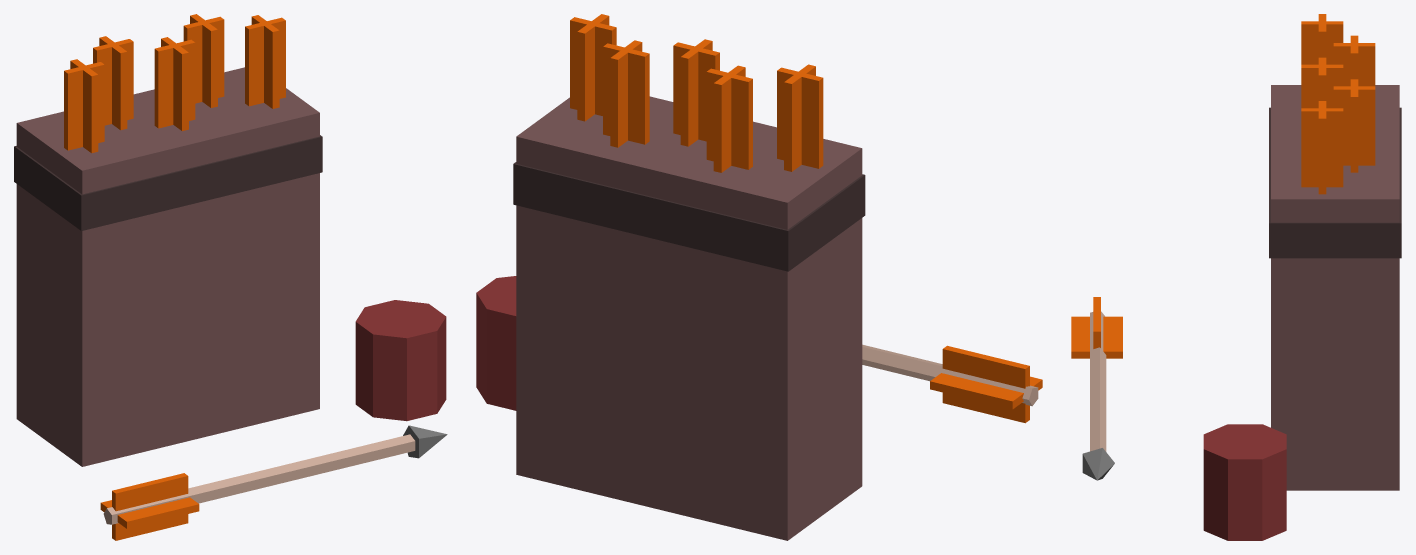
Rendered from ce_ammo2_boltjar_flame_c.obj.
The picture shows the model from 3 angles, left to right: view 1: azimuth 30°, elevation 25°; view 2: azimuth 150°, elevation 25°; view 3: azimuth 270°, elevation 25°; orthographic projection. The views are drawn at different scales.
Parts seen in each view (by area): view 1: ce_ammo2_boltjar_flame_c_0, ce_ammo2_boltjar_flame_c_1, ce_ammo2_boltjar_flame_c_12, ce_ammo2_boltjar_flame_c_13, ce_ammo2_boltjar_flame_c_16, ce_ammo2_boltjar_flame_c_6, ce_ammo2_boltjar_flame_c_2, ce_ammo2_boltjar_flame_c_10, ce_ammo2_boltjar_flame_c_8, ce_ammo2_boltjar_flame_c_4, ce_ammo2_boltjar_flame_c_11, ce_ammo2_boltjar_flame_c_7 (+5 smaller); view 2: ce_ammo2_boltjar_flame_c_0, ce_ammo2_boltjar_flame_c_1, ce_ammo2_boltjar_flame_c_12, ce_ammo2_boltjar_flame_c_16, ce_ammo2_boltjar_flame_c_2, ce_ammo2_boltjar_flame_c_4, ce_ammo2_boltjar_flame_c_8, ce_ammo2_boltjar_flame_c_13, ce_ammo2_boltjar_flame_c_6, ce_ammo2_boltjar_flame_c_7, ce_ammo2_boltjar_flame_c_5, ce_ammo2_boltjar_flame_c_10 (+4 smaller); view 3: ce_ammo2_boltjar_flame_c_0, ce_ammo2_boltjar_flame_c_12, ce_ammo2_boltjar_flame_c_1, ce_ammo2_boltjar_flame_c_11, ce_ammo2_boltjar_flame_c_9, ce_ammo2_boltjar_flame_c_13, ce_ammo2_boltjar_flame_c_15, ce_ammo2_boltjar_flame_c_7, ce_ammo2_boltjar_flame_c_3, ce_ammo2_boltjar_flame_c_5, ce_ammo2_boltjar_flame_c_8, ce_ammo2_boltjar_flame_c_10 (+3 smaller).
Part boxes in pixels (<box>): ce_ammo2_boltjar_flame_c_0: <box>16,67,319,466</box>; ce_ammo2_boltjar_flame_c_1: <box>14,135,322,230</box>; ce_ammo2_boltjar_flame_c_12: <box>355,300,446,421</box>; ce_ammo2_boltjar_flame_c_13: <box>103,434,415,524</box>; ce_ammo2_boltjar_flame_c_16: <box>112,473,188,540</box>; ce_ammo2_boltjar_flame_c_6: <box>154,39,195,128</box>; ce_ammo2_boltjar_flame_c_2: <box>64,62,104,150</box>; ce_ammo2_boltjar_flame_c_10: <box>245,17,285,106</box>; ce_ammo2_boltjar_flame_c_8: <box>183,16,224,103</box>; ce_ammo2_boltjar_flame_c_4: <box>93,39,133,125</box>; ce_ammo2_boltjar_flame_c_11: <box>251,15,279,108</box>; ce_ammo2_boltjar_flame_c_7: <box>161,37,188,131</box>; ce_ammo2_boltjar_flame_c_0: <box>516,96,862,540</box>; ce_ammo2_boltjar_flame_c_1: <box>513,162,865,271</box>; ce_ammo2_boltjar_flame_c_12: <box>476,276,516,410</box>; ce_ammo2_boltjar_flame_c_16: <box>942,345,1029,423</box>; ce_ammo2_boltjar_flame_c_2: <box>777,67,823,168</box>; ce_ammo2_boltjar_flame_c_4: <box>706,68,752,169</box>; ce_ammo2_boltjar_flame_c_8: <box>603,43,649,144</box>; ce_ammo2_boltjar_flame_c_13: <box>862,344,1038,406</box>; ce_ammo2_boltjar_flame_c_6: <box>673,42,719,141</box>; ce_ammo2_boltjar_flame_c_7: <box>680,39,712,146</box>; ce_ammo2_boltjar_flame_c_5: <box>713,65,745,172</box>; ce_ammo2_boltjar_flame_c_10: <box>570,17,616,115</box>; ce_ammo2_boltjar_flame_c_0: <box>1271,85,1399,490</box>; ce_ammo2_boltjar_flame_c_12: <box>1203,424,1286,540</box>; ce_ammo2_boltjar_flame_c_1: <box>1269,107,1401,258</box>; ce_ammo2_boltjar_flame_c_11: <box>1301,108,1343,187</box>; ce_ammo2_boltjar_flame_c_9: <box>1333,86,1375,165</box>; ce_ammo2_boltjar_flame_c_13: <box>1090,311,1106,451</box>; ce_ammo2_boltjar_flame_c_15: <box>1071,316,1122,358</box>; ce_ammo2_boltjar_flame_c_7: <box>1301,64,1343,108</box>; ce_ammo2_boltjar_flame_c_3: <box>1301,21,1343,64</box>; ce_ammo2_boltjar_flame_c_5: <box>1333,43,1375,86</box>; ce_ammo2_boltjar_flame_c_8: <box>1350,79,1358,172</box>; ce_ammo2_boltjar_flame_c_10: <box>1318,101,1326,194</box>.
Bounding box in the file's own units: 0.7147 × 0.63 × 0.513.
